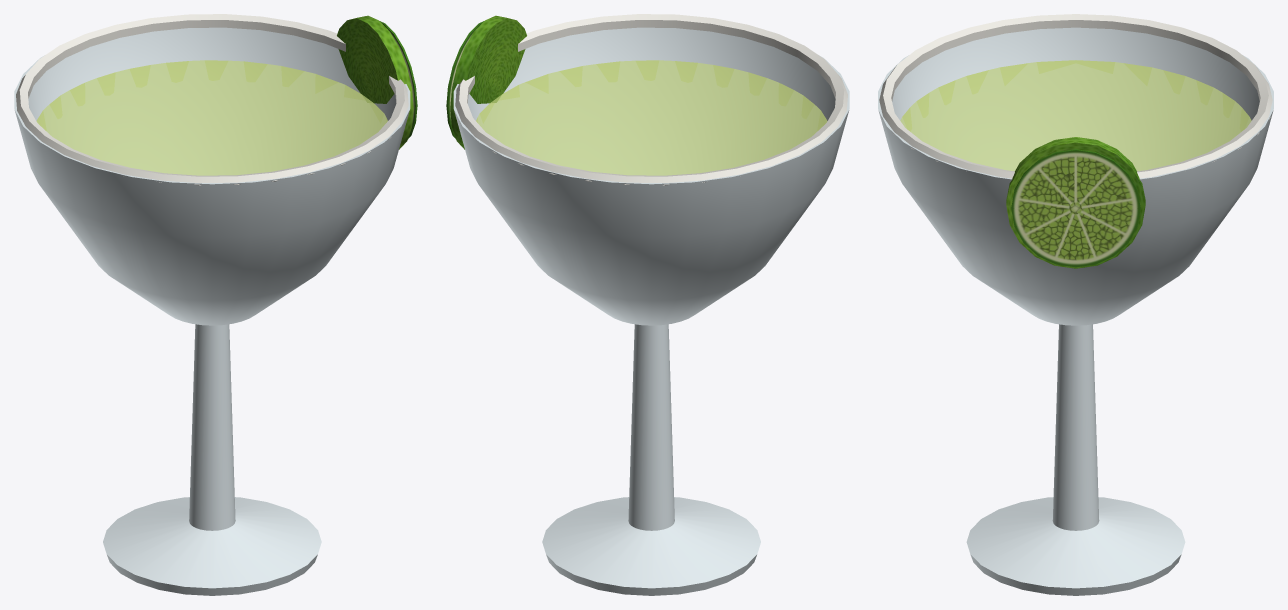
File: cocktail_margarita_salt_rim.glb
3 renders of one model, left to right at view 1: azimuth 30°, elevation 25°; view 2: azimuth 150°, elevation 25°; view 3: azimuth 270°, elevation 25°, orthographic.
Parts seen in each view (by area): view 1: cocktail_margarita_salt_rim; view 2: cocktail_margarita_salt_rim; view 3: cocktail_margarita_salt_rim.
Part boxes in pixels (left/top/right/bottom): cocktail_margarita_salt_rim: left=14, top=14, right=417, bottom=595; cocktail_margarita_salt_rim: left=446, top=14, right=849, bottom=595; cocktail_margarita_salt_rim: left=878, top=14, right=1273, bottom=595.
Bounding box in the file's own units: 0.1202 × 0.163 × 0.1194.
5 materials, 2 textured.
